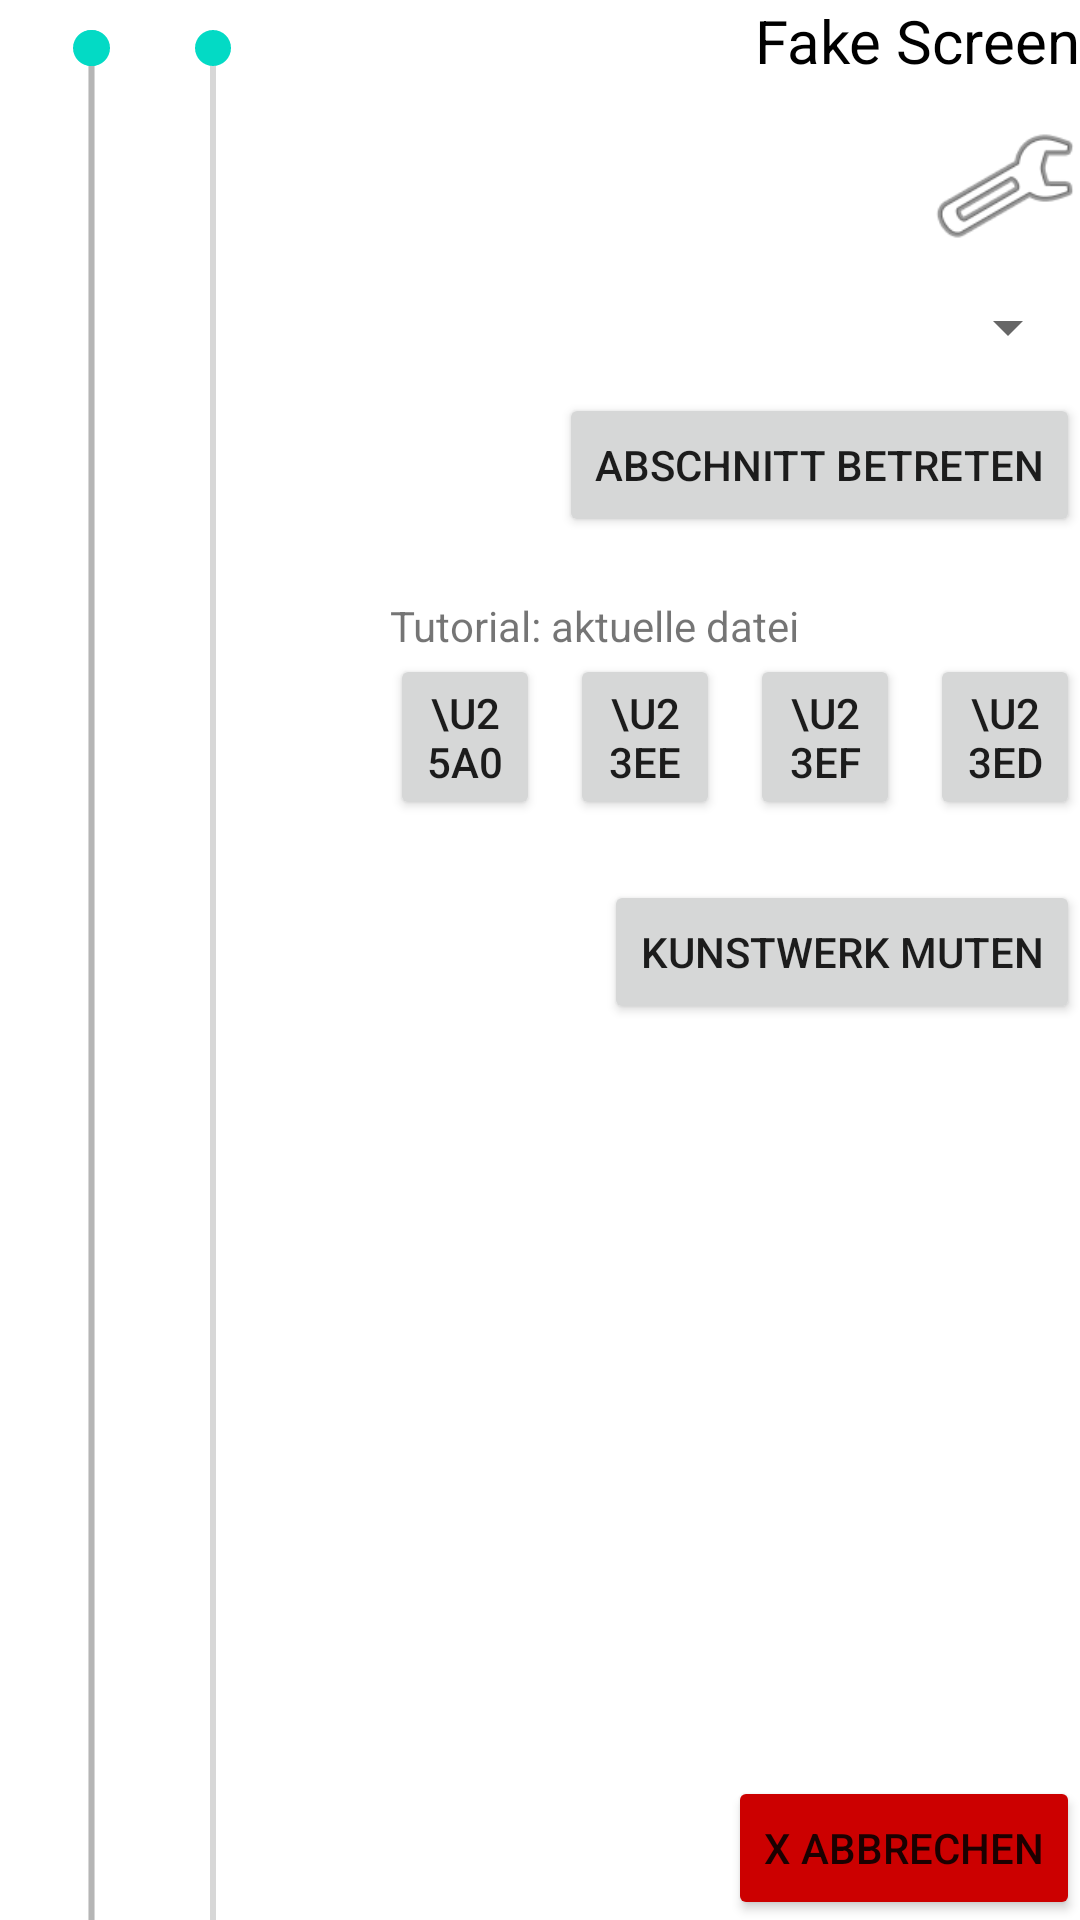

Named icons in this screenshot (1080 × 1920) and their centers, (x=x, y=y):
Settings: (x=1005, y=186)
